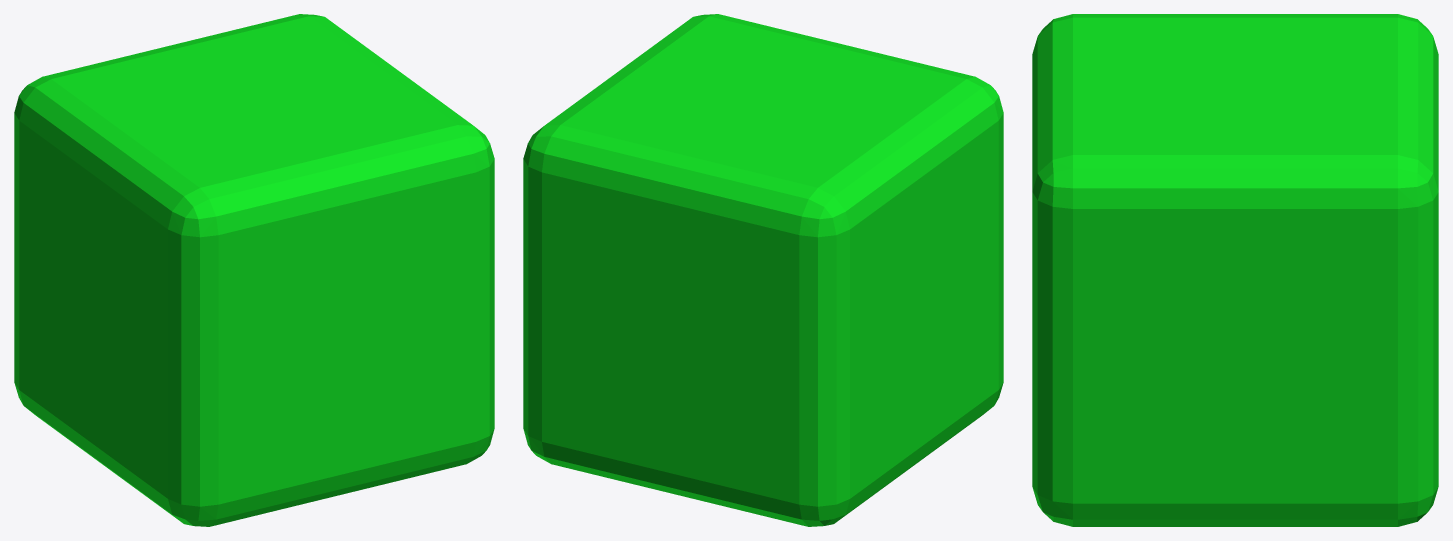
File: Slime.dae
3 views of the same model, side by side, from view 1: azimuth 30°, elevation 25°; view 2: azimuth 150°, elevation 25°; view 3: azimuth 270°, elevation 25° (orthographic). The views are drawn at different scales.
Visible parts, largest first — view 1: Cube.001; view 2: Cube.001; view 3: Cube.001.
Part boxes in pixels (x1=…): Cube.001: x1=14, y1=14, x2=494, y2=526; Cube.001: x1=523, y1=14, x2=1003, y2=526; Cube.001: x1=1032, y1=14, x2=1438, y2=526.
Bounding box in the file's own units: 2 × 2 × 2.
